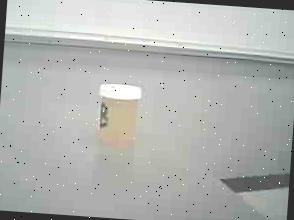Bottle B: (92, 78, 144, 154)
